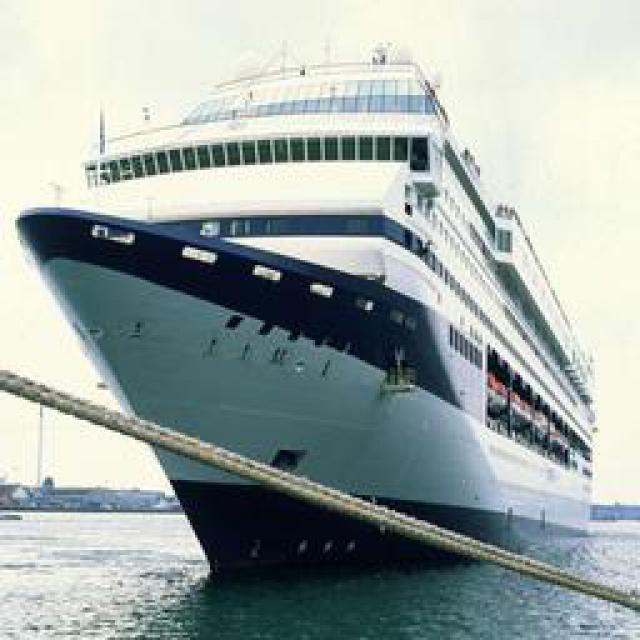Ship: (14, 32, 604, 584)
